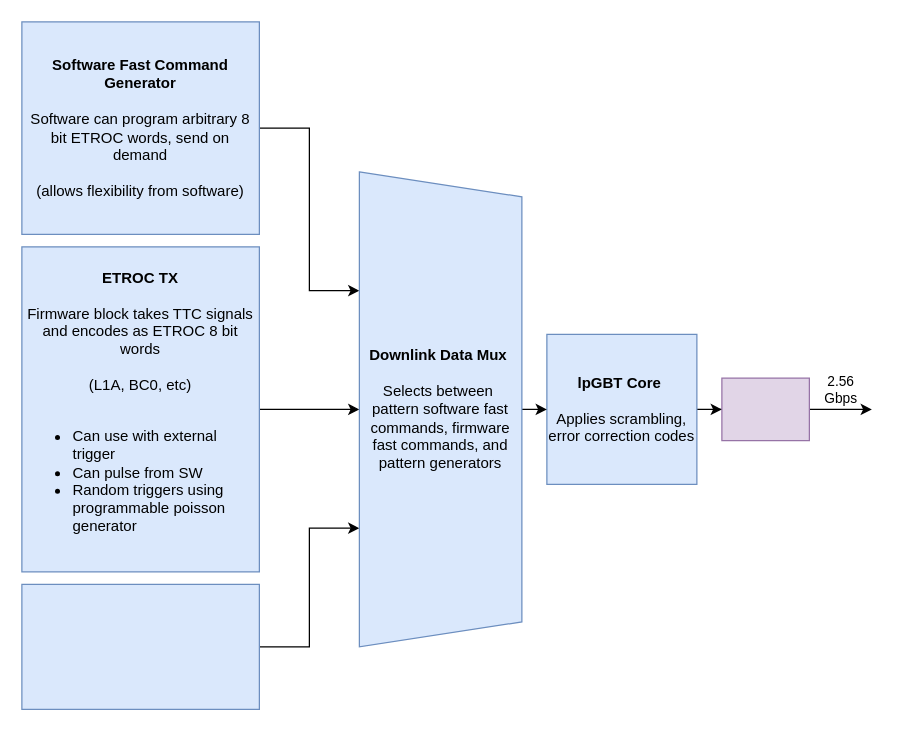
The diagram is 904 pixels wide and 731 high, and some of its shapes have lost their labels. Each missing label, with the centre of its shape:
GTH: the point at 765,409
Pattern Generators PRBS-7 0-255 Upcnt: the point at 140,646
